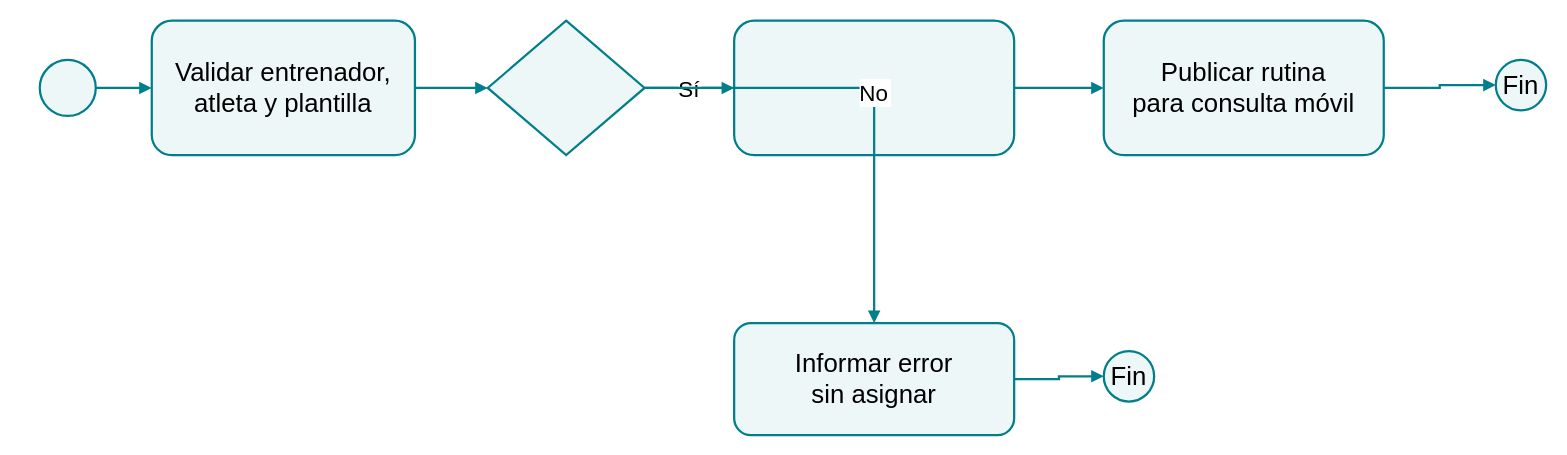
Image size: 1567x455. Some labels were removed from this diagram. Here are the shapes that lost their labels. From the top down, the box of each, then its label:
(38, 58, 96, 116): Solicitud
(486, 19, 645, 156): ¿Datos válidos?
(732, 19, 1015, 156): Asignar mesociclo y generar sesiones
